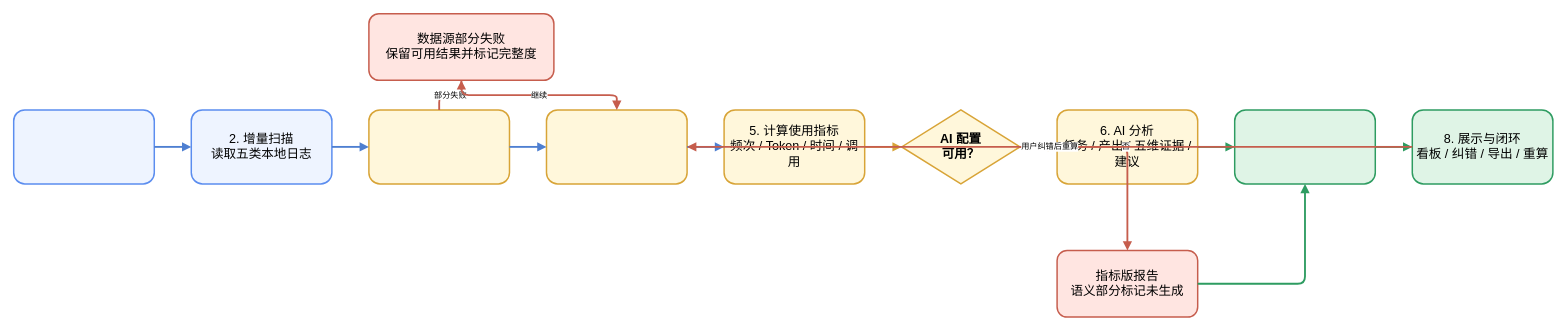
This 1566x330 diagram has some shape labels left out. Each missing label, with the centre of its shape:
"1. 定时或手动触发 计算报告时间窗口" belongs at (x=84, y=146).
"3. 统一事件 解析 / 去重 / 标记完整度" belongs at (x=439, y=146).
"4. 还原工作 区间 / 项目 / 任务 / Agent" belongs at (x=616, y=146).
"7. 评分与报告 今日得分 / 28 天 L1-L4" belongs at (x=1305, y=146).
